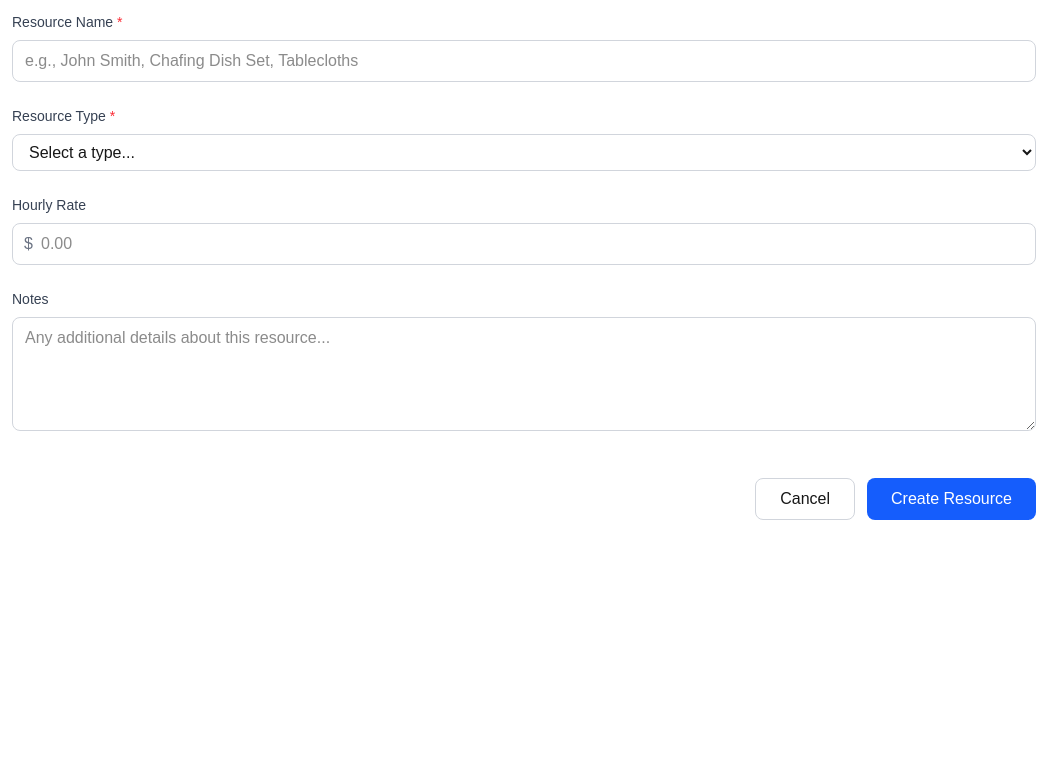
Test: ResourceForm › validation › clears field error when user types in that field
Submit with empty name to trigger error
Select "Staff" in the dropdown labelled "Resource Type *" at (524, 152), box [12,134,1036,171]
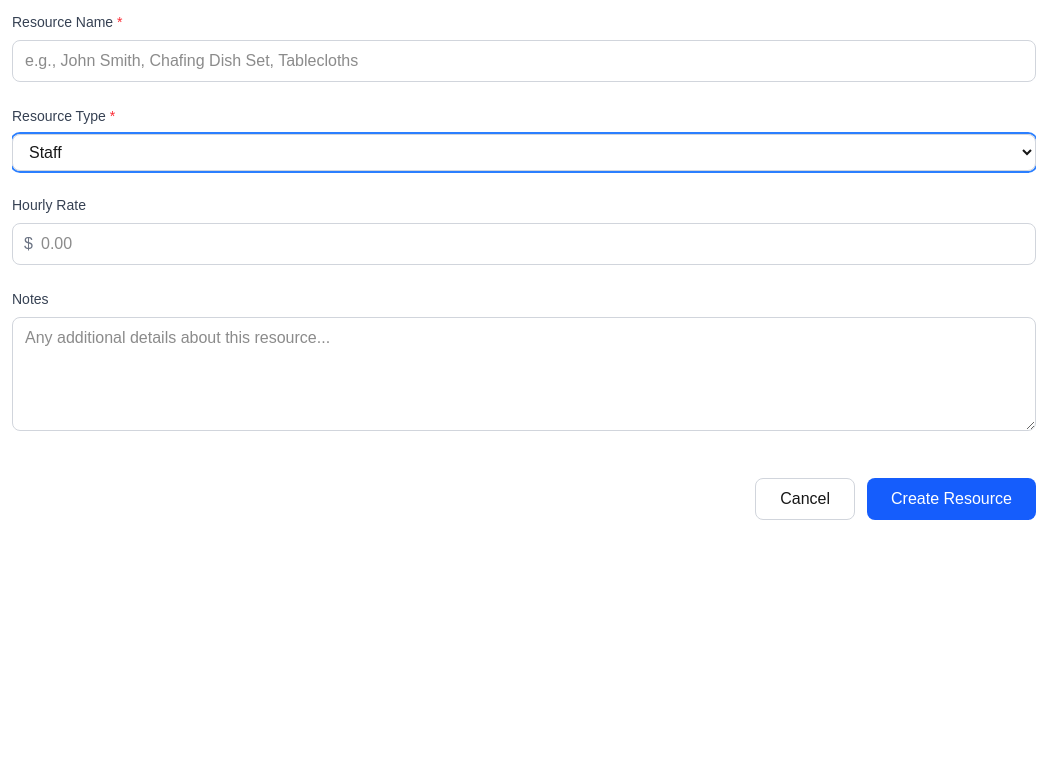
Click the button "Create Resource".
click(952, 499)  # box [867,478,1036,520]
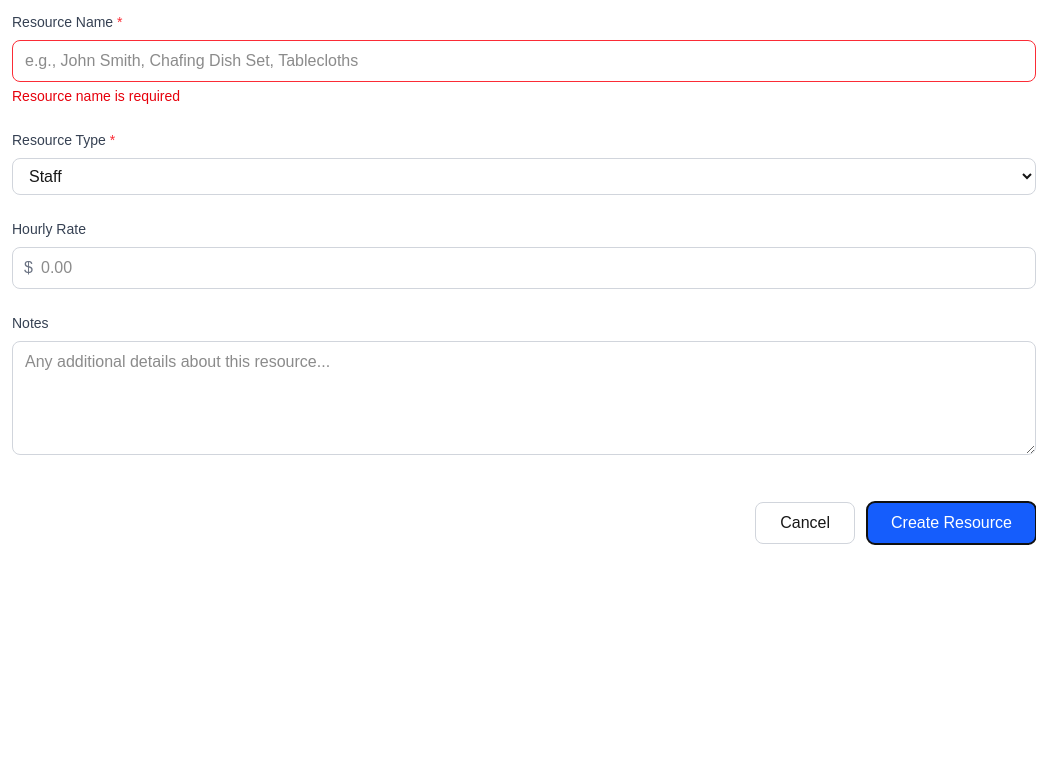
Check: the text "Resource name is required" is shown, box [12,88,180,104]
Type in name field to clear error
Type "A" into the field labelled "Resource Name *".
click(524, 61); type("A")  # box [12,40,1036,82]
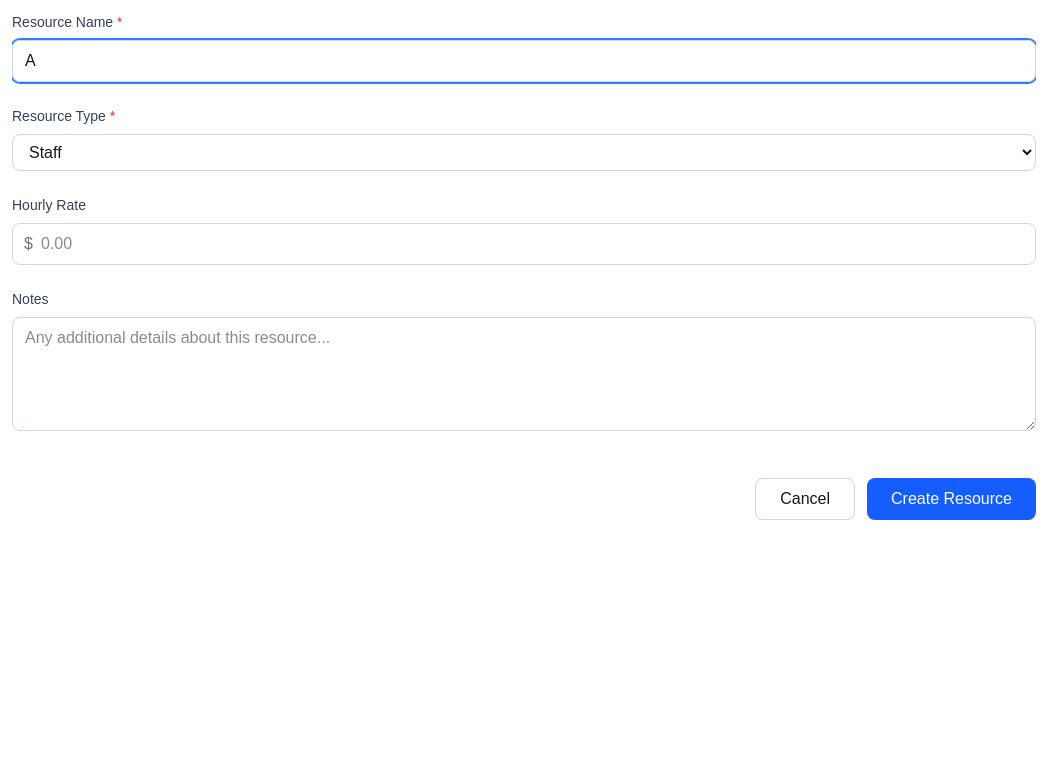
Check: the text "Resource name is required" is gone
